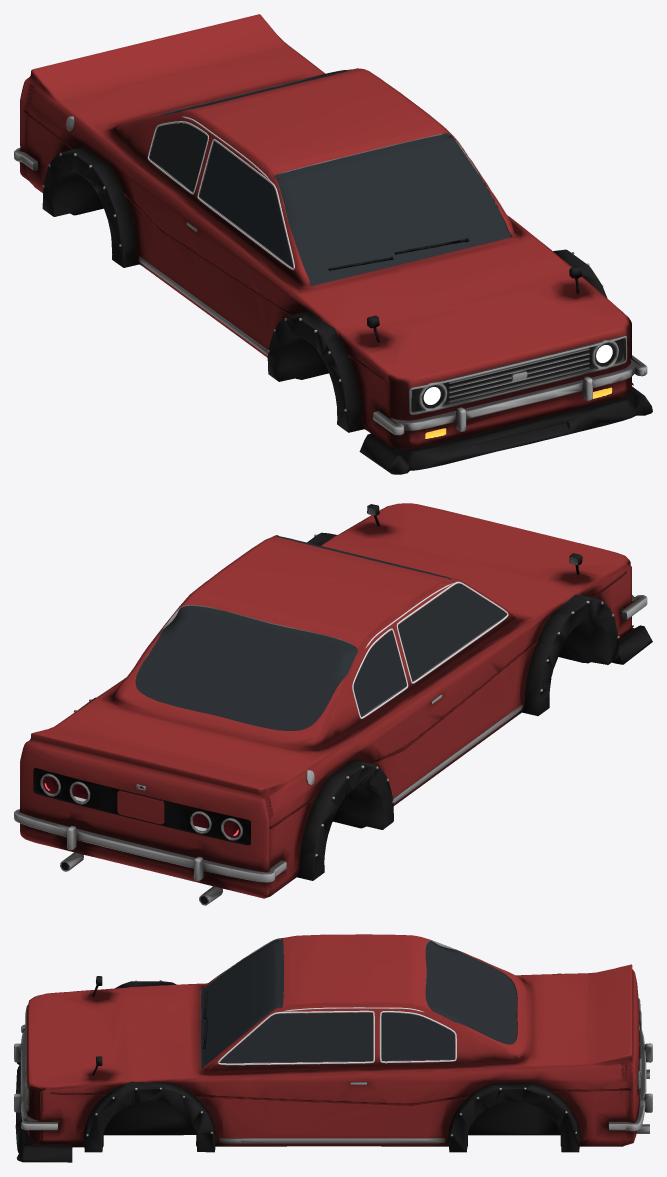
File: kaido.m.glb
The picture shows the model from 3 angles, top to bottom: view 1: azimuth 30°, elevation 25°; view 2: azimuth 150°, elevation 25°; view 3: azimuth 270°, elevation 25°; orthographic projection. The views are drawn at different scales.
Visible parts, largest first — view 1: paint_lodm, window_lodm, trim_lodm, chrome_lodm (×2), grille_lodm; view 2: paint_lodm, window_lodm, trim_lodm, chrome_lodm (×2), tail_lodm; view 3: paint_lodm, window_lodm, trim_lodm, chrome_lodm (×2).
Part boxes in pixels (box(x1,y1,x2,y2)): paint_lodm: box(19, 14, 639, 450); window_lodm: box(149, 71, 511, 285); trim_lodm: box(42, 146, 652, 474); chrome_lodm (×2): box(14, 69, 647, 435); grille_lodm: box(411, 338, 622, 451); paint_lodm: box(20, 503, 639, 898); window_lodm: box(136, 536, 506, 730); trim_lodm: box(33, 504, 652, 898); chrome_lodm (×2): box(14, 507, 647, 905); tail_lodm: box(43, 776, 240, 837); paint_lodm: box(26, 934, 640, 1146); window_lodm: box(201, 939, 517, 1068); trim_lodm: box(15, 976, 638, 1162); chrome_lodm (×2): box(14, 938, 652, 1143).
Size of what is drawn, in the model's own units: 1.82 by 1.11 by 4.52.
